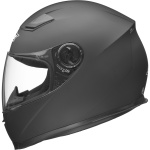Helmet: (2, 1, 150, 149)
